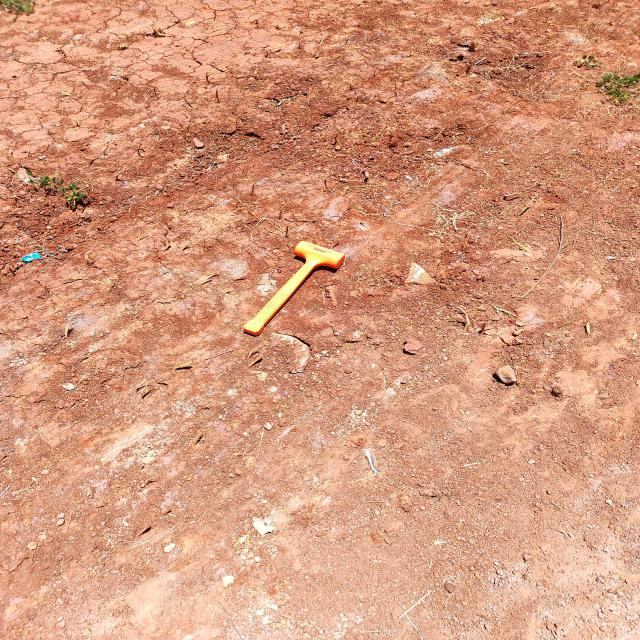Orange_hammer: (242, 240, 346, 337)
